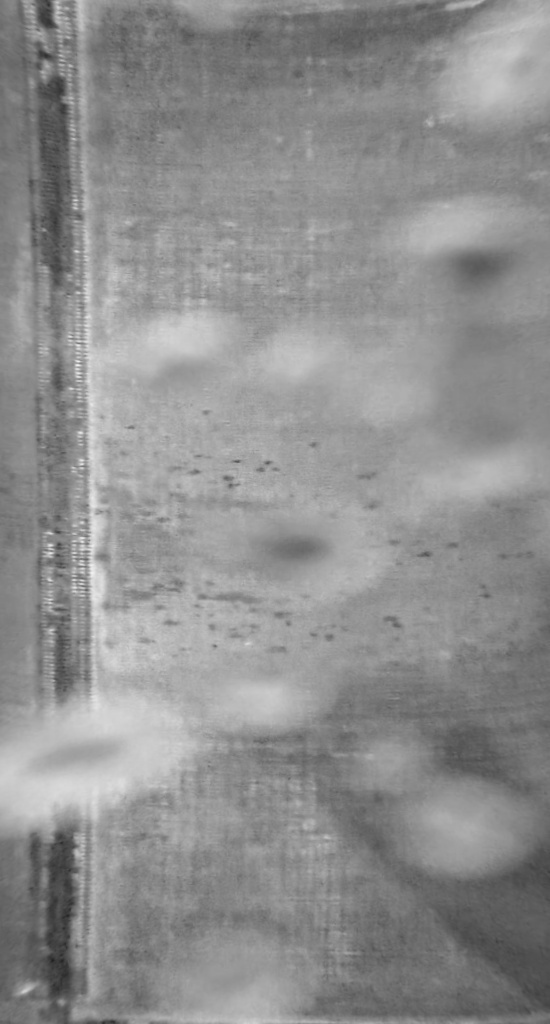splice: (16, 3, 113, 1024)
